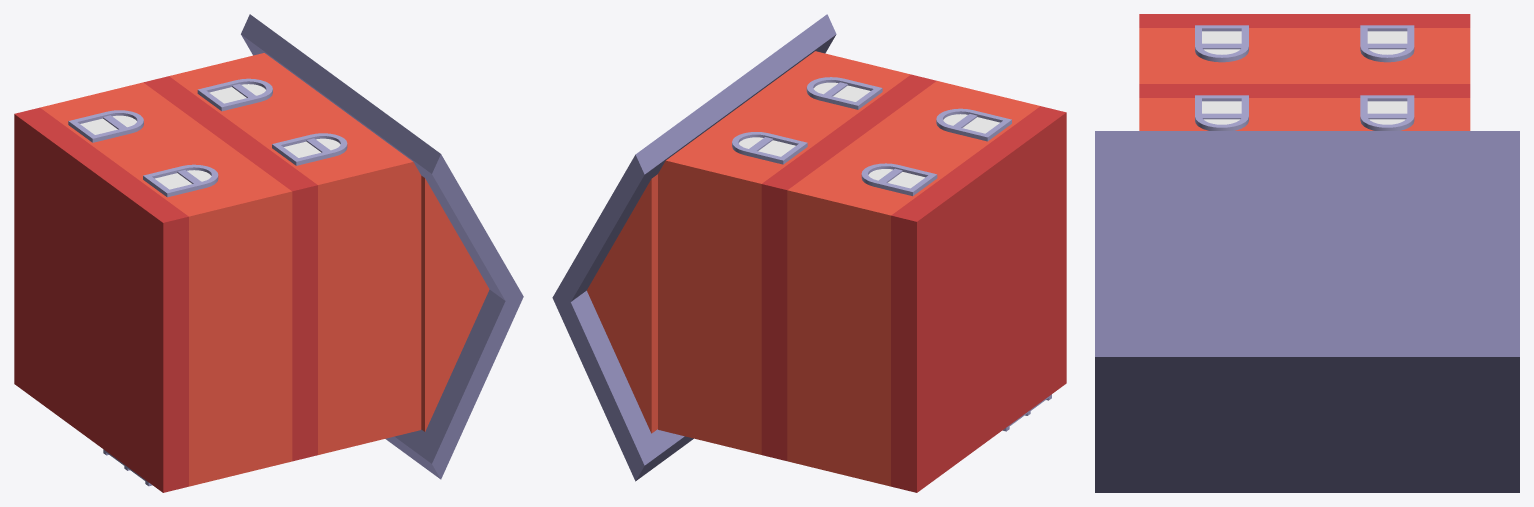
File: test-building-roofed-1.glb
3 renders of one model, left to right at view 1: azimuth 30°, elevation 25°; view 2: azimuth 150°, elevation 25°; view 3: azimuth 270°, elevation 25°, orthographic. The views are drawn at different scales.
Visible parts, largest first — view 1: mergedBlocks(Clone); view 2: mergedBlocks(Clone); view 3: mergedBlocks(Clone).
Part boxes in pixels (x1,y1,x2,y2): mergedBlocks(Clone): [14, 14, 523, 492]; mergedBlocks(Clone): [552, 14, 1066, 492]; mergedBlocks(Clone): [1095, 14, 1519, 492].
Bounding box in the file's own units: 2.64 × 2.41 × 2.57.
